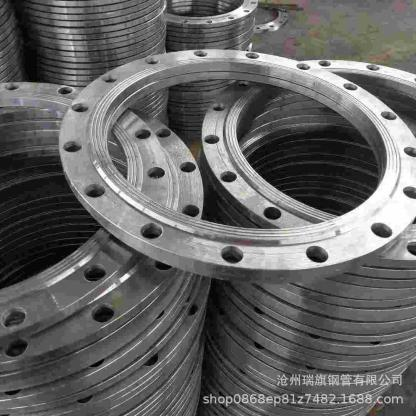FOD: (54, 43, 416, 286)
